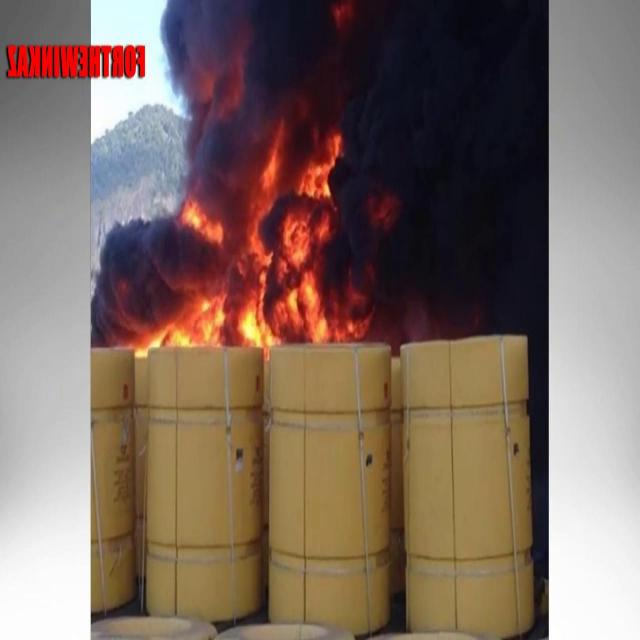fire: (103, 126, 364, 351)
